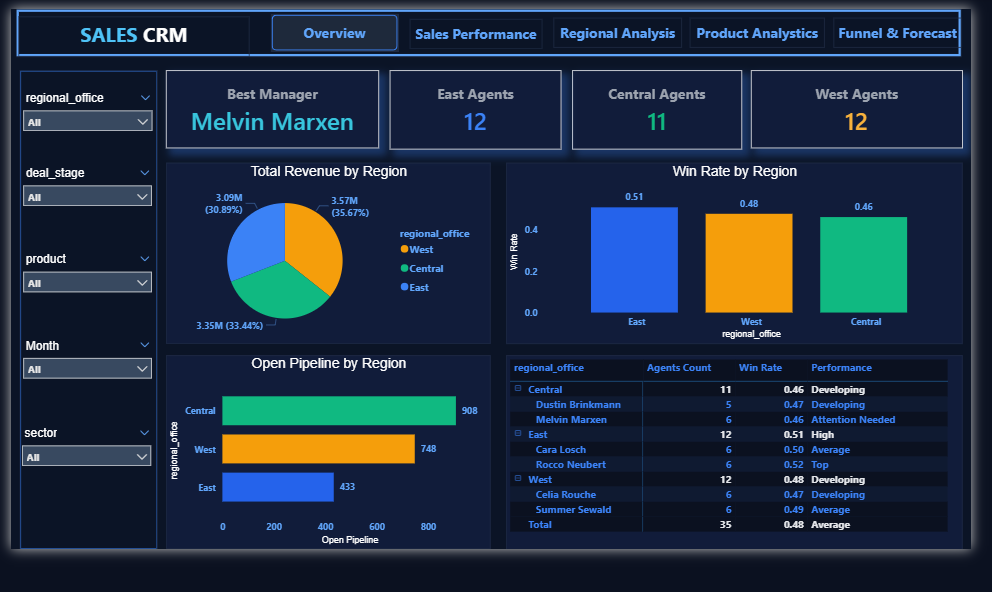

The dashboard page shown, as its layout file describes it:
{"tool":"powerbi","page":{"name":"Regional Analysis","canvas":[1280,720],"ordinal":2},"visuals":[{"type":"shape","box":[11,81,183.9,639.5],"z":0},{"type":"slicer","fields":{"Values":["public sales_teams.regional_office"]},"box":[11,105.7,186.6,81],"z":1000},{"type":"slicer","fields":{"Values":["public sales_pipeline.deal_stage"]},"box":[11.4,204.3,185.7,81.4],"z":2000},{"type":"slicer","fields":{"Values":["public products.product"]},"box":[11.4,320,185.7,80],"z":3000},{"type":"pieChart","title":"Total Revenue by Region","fields":{"Category":["public sales_teams.regional_office"],"Y":["public sales_pipeline.Total Revenue"]},"box":[207.1,204.3,432.9,241.4],"z":4000},{"type":"actionButton","box":[7.5,0,1260.9,64.2],"z":5000},{"type":"cardVisual","fields":{"Data":["public sales_teams.Central Agents"]},"box":[747.9,81,226.4,105.7],"z":6000},{"type":"cardVisual","fields":{"Data":["public sales_teams.West Agents"]},"box":[986.6,81,282.7,104.3],"z":7000},{"type":"cardVisual","fields":{"Data":["public sales_teams.Best Manager"]},"box":[207.2,81,284,104.3],"z":8000},{"type":"cardVisual","fields":{"Data":["public sales_teams.East Agents"]},"box":[505,81,229.2,105.7],"z":9000},{"type":"clusteredColumnChart","title":"Win Rate by Region","fields":{"Y":["public sales_pipeline.Win Rate"],"Category":["public sales_teams.regional_office"]},"box":[659.6,204.4,608.8,241.7],"z":10000},{"type":"pivotTable","fields":{"Rows":["public sales_teams.regional_office","public sales_teams.manager"],"Values":["public sales_teams.Agents Count","public sales_pipeline.Win Rate","public sales_teams.Performance"]},"box":[659.6,461.1,608.8,259.6],"z":11000},{"type":"clusteredBarChart","title":"Open Pipeline by Region","fields":{"Category":["public sales_teams.regional_office"],"Y":["public sales_pipeline.Open Pipeline"]},"box":[207.1,461.4,432.9,258.6],"z":12000},{"type":"textbox","box":[10,10,308.3,53.3],"z":13000},{"type":"slicer","fields":{"Values":["public sales_pipeline.engage_date.Variation.Date Hierarchy.Month"]},"box":[11.4,435.7,185.7,81.4],"z":14000},{"type":"slicer","fields":{"Values":["public accounts.sector"]},"box":[10,551.4,187.1,80],"z":15000},{"type":"actionButton","title":"Product Analysis","box":[347.1,7.1,170,50],"z":16000},{"type":"actionButton","title":"Product Analysis","box":[722.9,11.4,171.4,40],"z":17000},{"type":"actionButton","title":"Product Analysis","box":[904.3,11.4,180,40],"z":18000},{"type":"actionButton","title":"Product Analysis","box":[531.4,12.9,177.1,40],"z":19000},{"type":"actionButton","title":"Product Analysis","box":[1097.1,11.4,171.4,40],"z":20000}]}

Visuals, with their boxes on the page's 1280x720 design canvas (x1, y1, x2, y2). These are canvas units, not pixel positions in the 992x592 screenshot, which may show the page scaled, cropped or inside an application window:
shape: BBox(11, 81, 195, 720)
slicer - public sales_teams.regional_office: BBox(11, 106, 198, 187)
slicer - public sales_pipeline.deal_stage: BBox(11, 204, 197, 286)
slicer - public products.product: BBox(11, 320, 197, 400)
"Total Revenue by Region" pieChart: BBox(207, 204, 640, 446)
actionButton: BBox(8, 0, 1268, 64)
cardVisual - public sales_teams.Central Agents: BBox(748, 81, 974, 187)
cardVisual - public sales_teams.West Agents: BBox(987, 81, 1269, 185)
cardVisual - public sales_teams.Best Manager: BBox(207, 81, 491, 185)
cardVisual - public sales_teams.East Agents: BBox(505, 81, 734, 187)
"Win Rate by Region" clusteredColumnChart: BBox(660, 204, 1268, 446)
pivotTable - public sales_teams.regional_office x public sales_teams.manager: BBox(660, 461, 1268, 721)
"Open Pipeline by Region" clusteredBarChart: BBox(207, 461, 640, 720)
textbox: BBox(10, 10, 318, 63)
slicer - public sales_pipeline.engage_date.Variation.Date Hierarchy.Month: BBox(11, 436, 197, 517)
slicer - public accounts.sector: BBox(10, 551, 197, 631)
"Product Analysis" actionButton: BBox(347, 7, 517, 57)
"Product Analysis" actionButton: BBox(723, 11, 894, 51)
"Product Analysis" actionButton: BBox(904, 11, 1084, 51)
"Product Analysis" actionButton: BBox(531, 13, 708, 53)
"Product Analysis" actionButton: BBox(1097, 11, 1268, 51)
